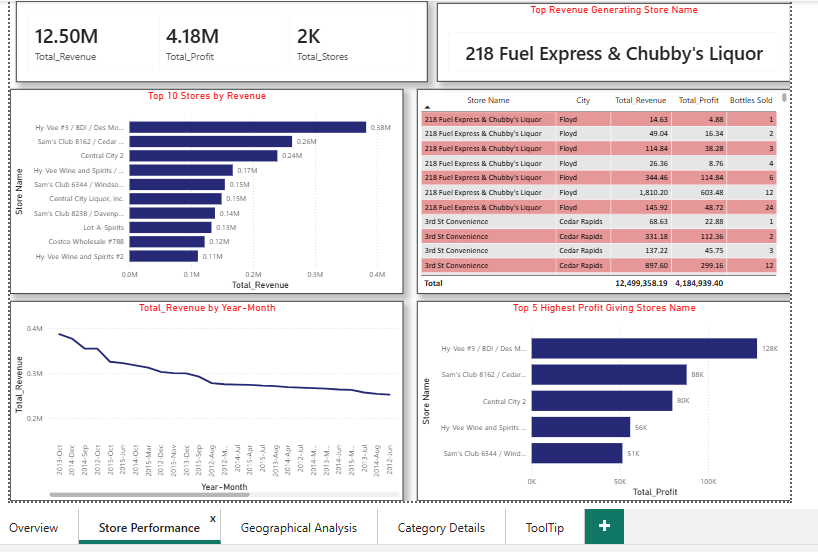

Layout of this report page (visuals, bound fields, positions):
{"tool":"powerbi","page":{"name":" Store Performance","canvas":[1280,820],"ordinal":1},"visuals":[{"type":"cardVisual","fields":{"Data":["LiquorSales_dataset.Total_Revenue","LiquorSales_dataset.Total_Profit","LiquorSales_dataset.Total_Stores"]},"box":[10.1,0,675.3,132.7],"z":0},{"type":"barChart","title":"Top 10 Stores by Revenue","fields":{"Category":["LiquorSales_dataset.Store Name"],"Y":["LiquorSales_dataset.Total_Revenue"]},"box":[0,144.5,645,336],"z":1000},{"type":"lineChart","fields":{"Category":["DateTable.Year-Month"],"Y":["LiquorSales_dataset.Total_Revenue"]},"box":[0,492.2,645,327.6],"z":2000},{"type":"tableEx","fields":{"Values":["LiquorSales_dataset.Store Name","LiquorSales_dataset.City","LiquorSales_dataset.Total_Revenue","LiquorSales_dataset.Total_Profit","LiquorSales_dataset.Bottles Sold"]},"box":[666.9,144.5,613.1,336],"z":3000},{"type":"barChart","title":"Top 5 Highest Profit Giving Stores Name","fields":{"Category":["LiquorSales_dataset.Store Name"],"Y":["LiquorSales_dataset.Total_Profit"]},"box":[666.9,492.2,613.1,327.6],"z":4000},{"type":"cardVisual","title":"Top Revenue Generating Store Name","fields":{"Data":["Min(LiquorSales_dataset.Store Name)"]},"box":[700.5,3.4,579.5,129.3],"z":5000}]}

Visuals, with their boxes in screenshot pixels (x1, y1, x2, y2):
cardVisual - LiquorSales_dataset.Total_Revenue x LiquorSales_dataset.Total_Profit: 15, 0, 425, 81
"Top 10 Stores by Revenue" barChart: 9, 88, 401, 292
lineChart - DateTable.Year-Month x LiquorSales_dataset.Total_Revenue: 9, 299, 401, 498
tableEx - LiquorSales_dataset.Store Name x LiquorSales_dataset.City: 414, 88, 787, 292
"Top 5 Highest Profit Giving Stores Name" barChart: 414, 299, 787, 498
"Top Revenue Generating Store Name" cardVisual: 434, 2, 787, 81
